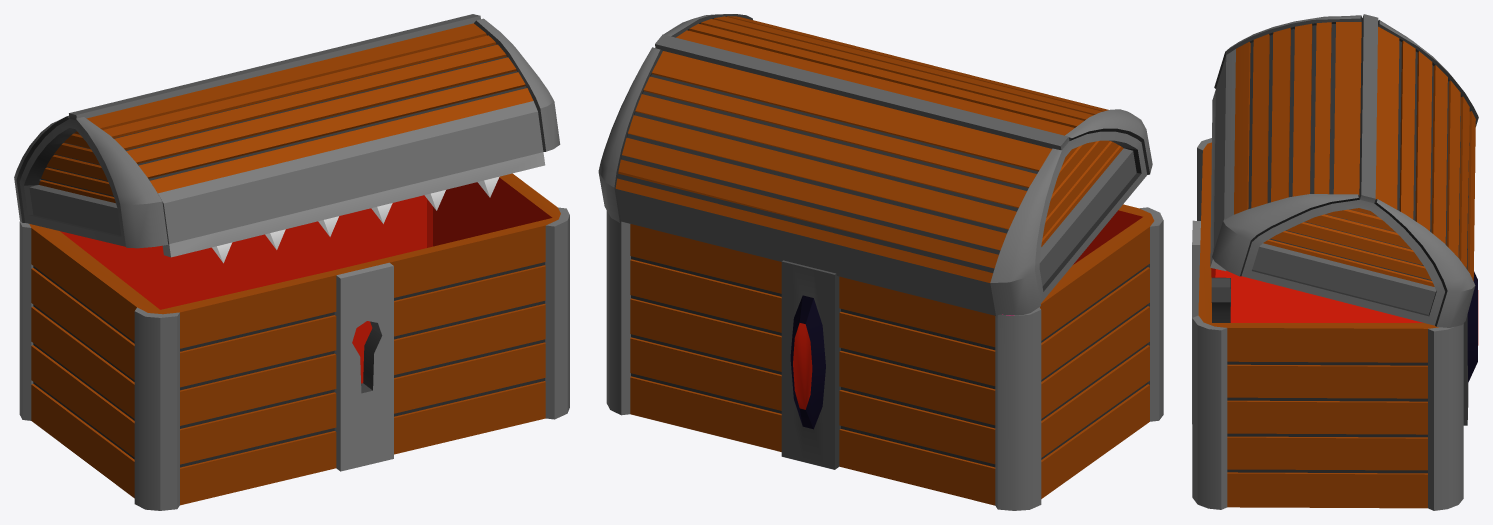
Rendered from Mimic_Opened_Withttooth.fbx.
3 renders of one model, left to right at view 1: azimuth 30°, elevation 25°; view 2: azimuth 150°, elevation 25°; view 3: azimuth 270°, elevation 25°, orthographic. The views are drawn at different scales.
Visible parts, largest first — view 1: Cube.001; view 2: Cube.001; view 3: Cube.001.
Part boxes in pixels (bbox=[...]): Cube.001: bbox=[14, 14, 569, 510]; Cube.001: bbox=[598, 14, 1163, 510]; Cube.001: bbox=[1192, 14, 1478, 510].
Bounding box in the file's own units: 110 × 80.96 × 67.72.
Materials: 2 (2 with a texture image).
